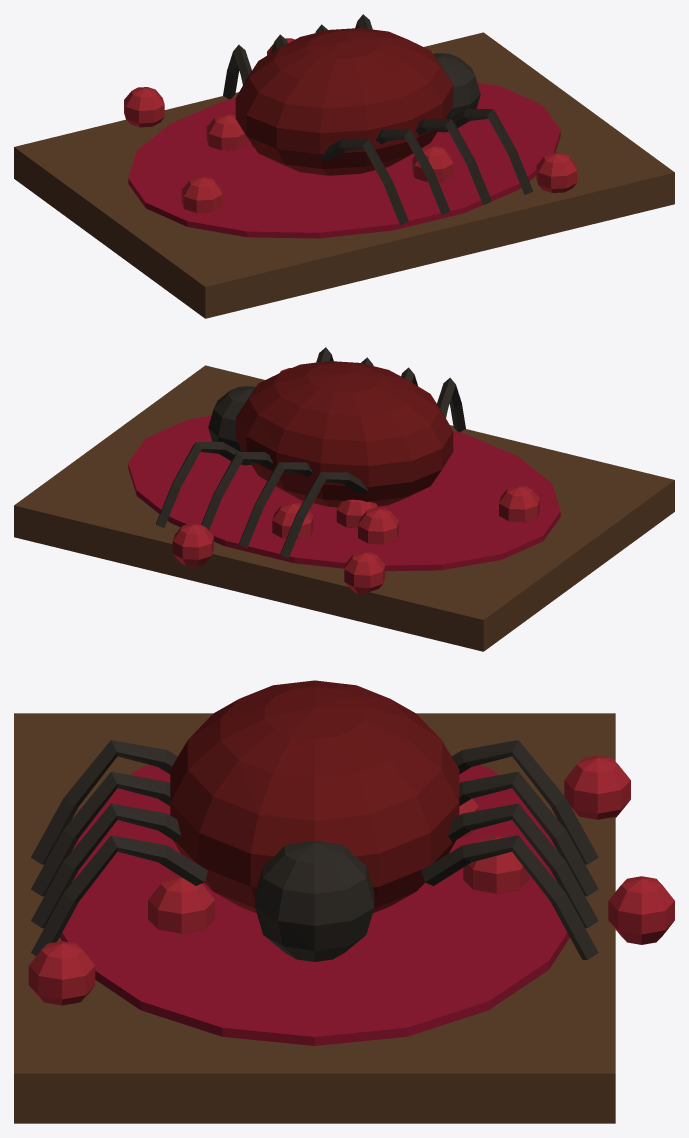
The model's file is VFP_Food_TickSud.obj.
3 views of the same model, one above another, from view 1: azimuth 30°, elevation 25°; view 2: azimuth 150°, elevation 25°; view 3: azimuth 270°, elevation 25° (orthographic). The views are drawn at different scales.
Parts seen in each view (by area): view 1: Board, Sauce, Tick, Tick_angler, Berries; view 2: Board, Sauce, Tick, Tick_angler, Berries; view 3: Board, Sauce, Tick, Tick_angler, Berries.
Part boxes in pixels (x1,y1,x2,y2): Board: [14, 32, 674, 318]; Sauce: [128, 82, 560, 238]; Tick: [235, 28, 453, 175]; Tick_angler: [223, 14, 532, 225]; Berries: [124, 38, 577, 212]; Board: [14, 365, 674, 651]; Sauce: [128, 415, 560, 571]; Tick: [235, 361, 453, 507]; Tick_angler: [156, 347, 465, 558]; Berries: [172, 368, 539, 594]; Board: [14, 713, 615, 1123]; Sauce: [59, 755, 569, 1045]; Tick: [170, 680, 459, 913]; Tick_angler: [31, 740, 598, 961]; Berries: [28, 755, 674, 1005].
Size of the model in its own units: 0.34 by 0.104 by 0.2637.
